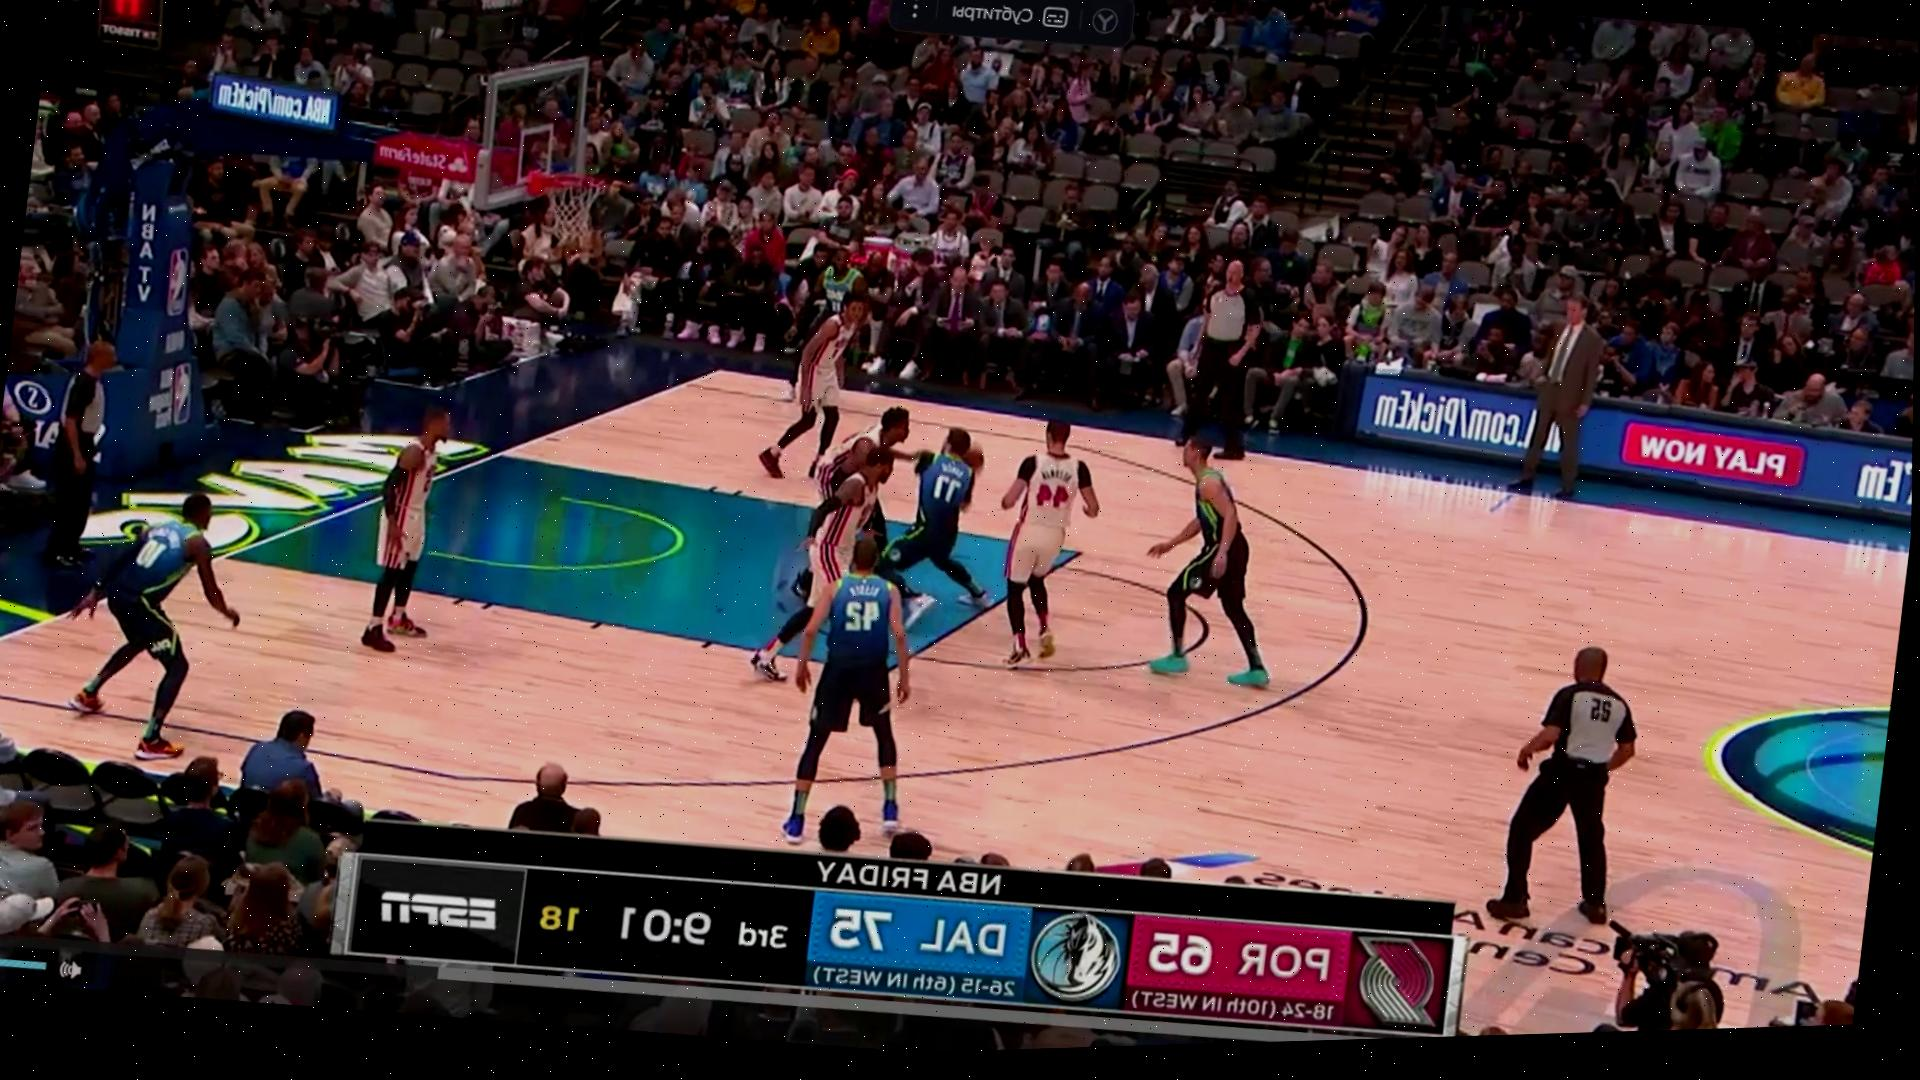no_foul: (767, 373, 996, 637)
